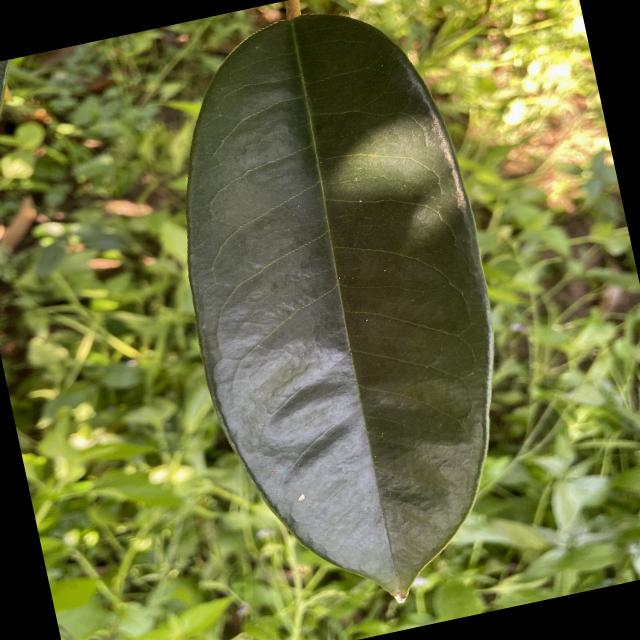No Disease: (122, 0, 559, 639)
